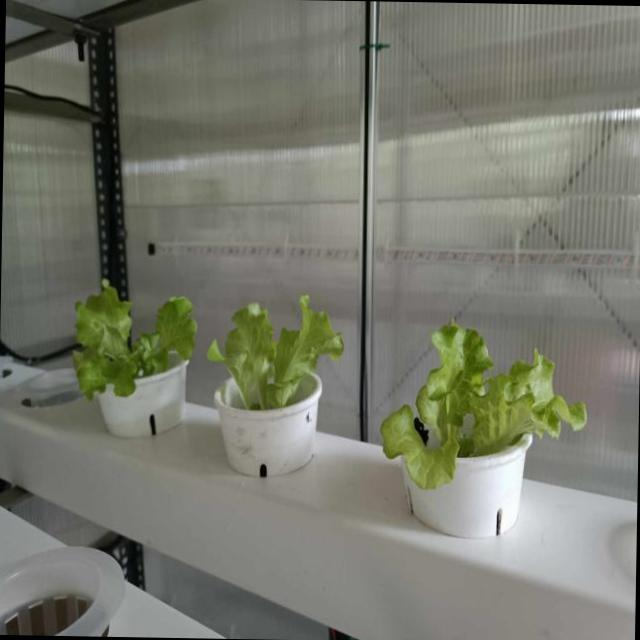Lettuce-Not-Ready-to-Harvest: (379, 319, 586, 490), (206, 295, 343, 410), (71, 278, 197, 401)
